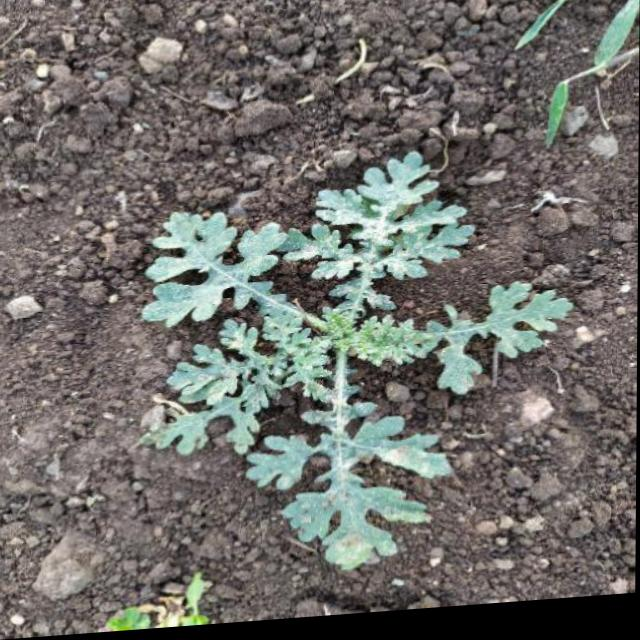weed: (139, 139, 574, 573)
